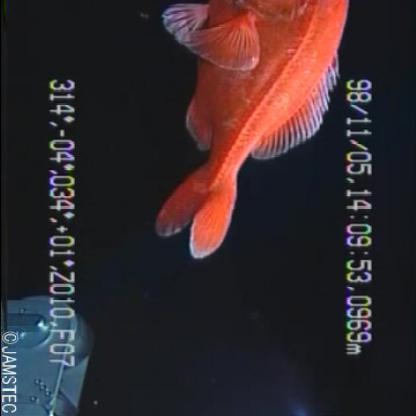Rov: (1, 292, 103, 413)
